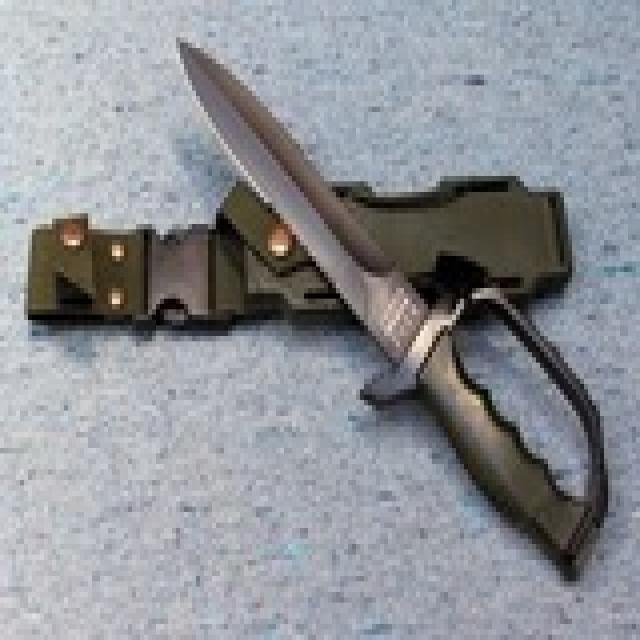Knife: (165, 28, 610, 567)
